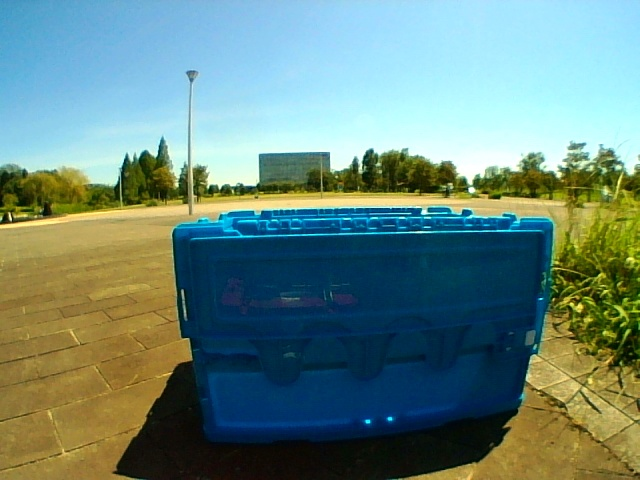blue_box: (199, 213, 523, 413)
